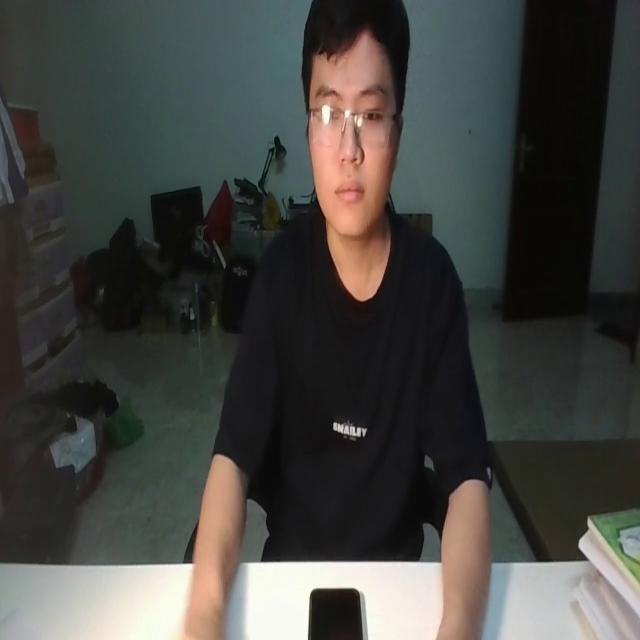phone: (308, 579, 361, 640)
student: (181, 0, 493, 640)
